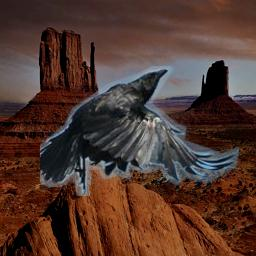Crow: (40, 66, 239, 196)
